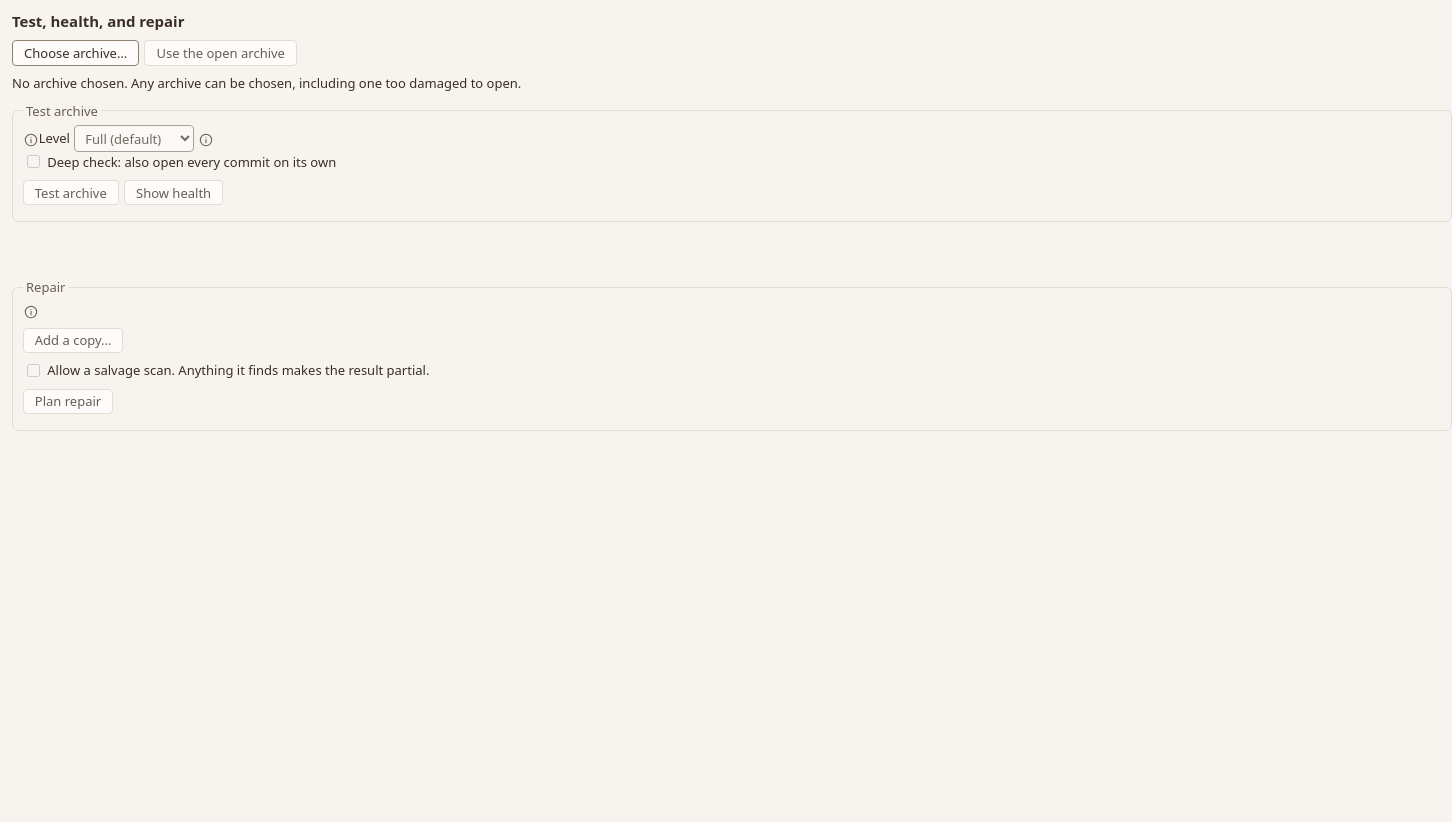
Test: an encrypted archive's keyless test says the check needs the key
Click the button with test id "check-choose". click: (76, 53)
box: left=12, top=40, right=139, bottom=66
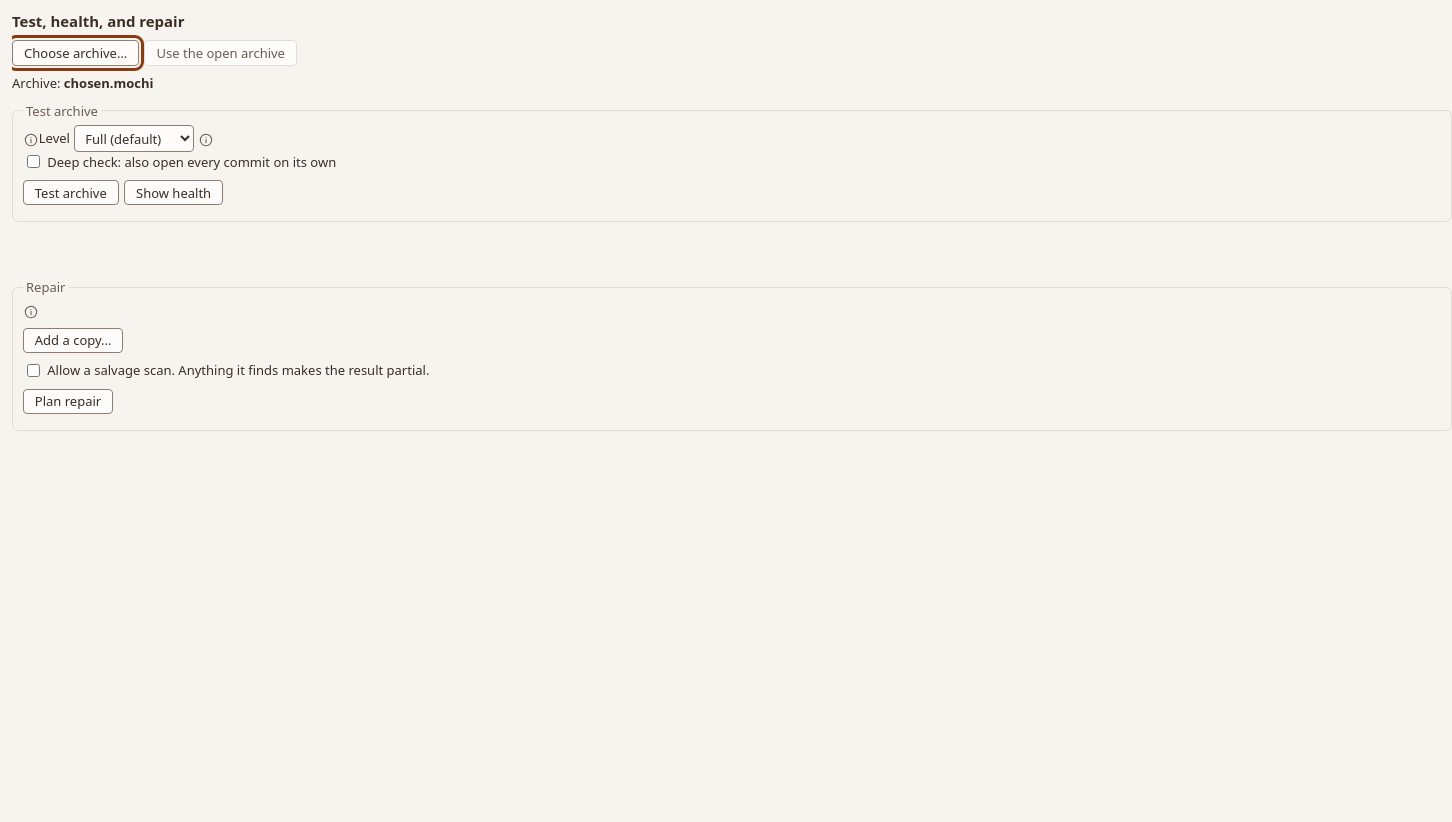
Expected: the text "chosen.mochi" is shown, left=64, top=74, right=154, bottom=92
Click the button with test id "check-test". click: (71, 193)
box: left=23, top=180, right=119, bottom=206
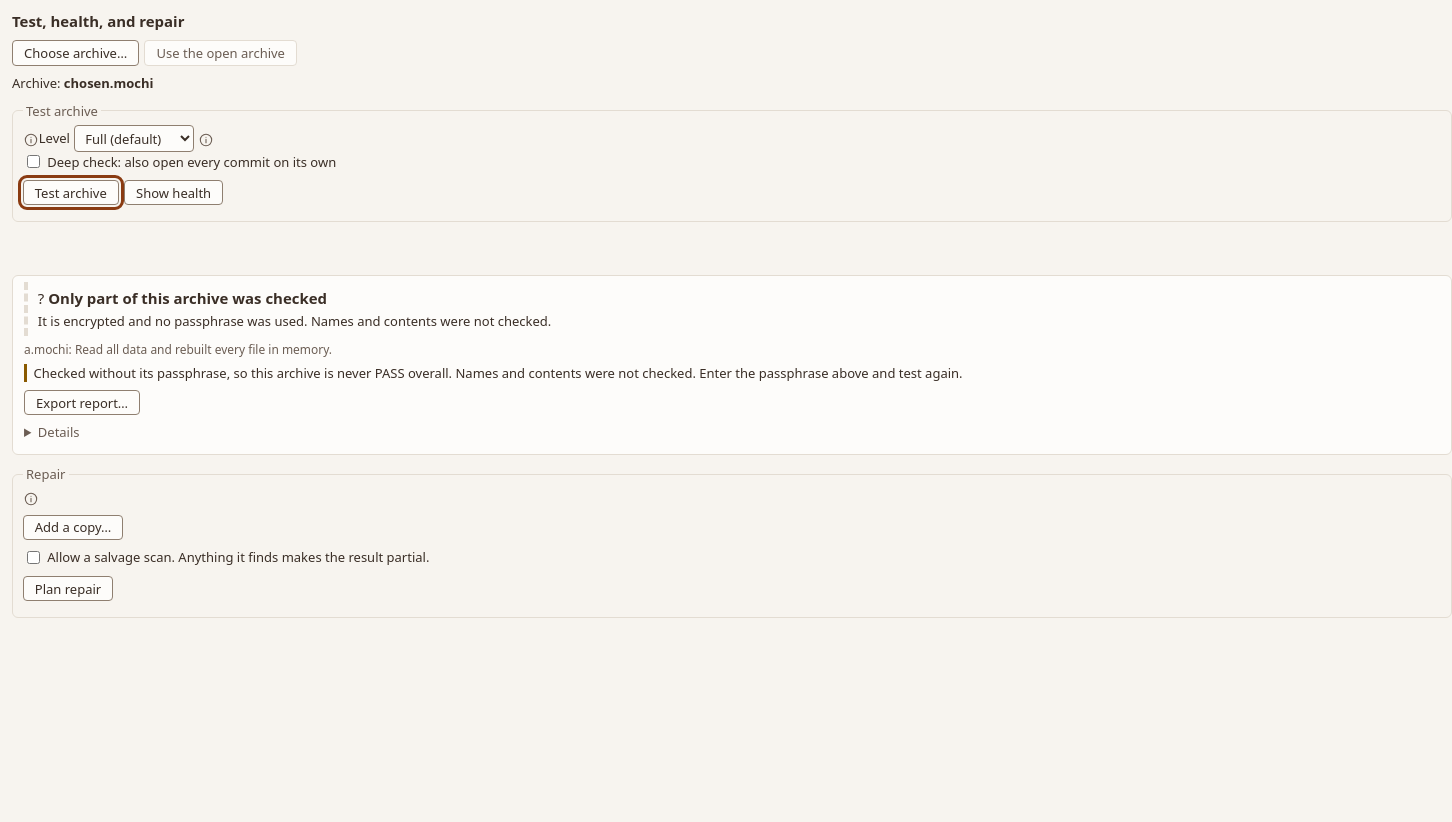
Expected: the text with test id "report-keyless-note" shows "Checked without its passphrase, so this archive is never PASS overall. Names and contents were not checked. Enter the passphrase above and test again.", left=34, top=364, right=962, bottom=382
Expected: the element with test id "report-headline" reads "Only part of this archive was checked", left=48, top=288, right=327, bottom=308
